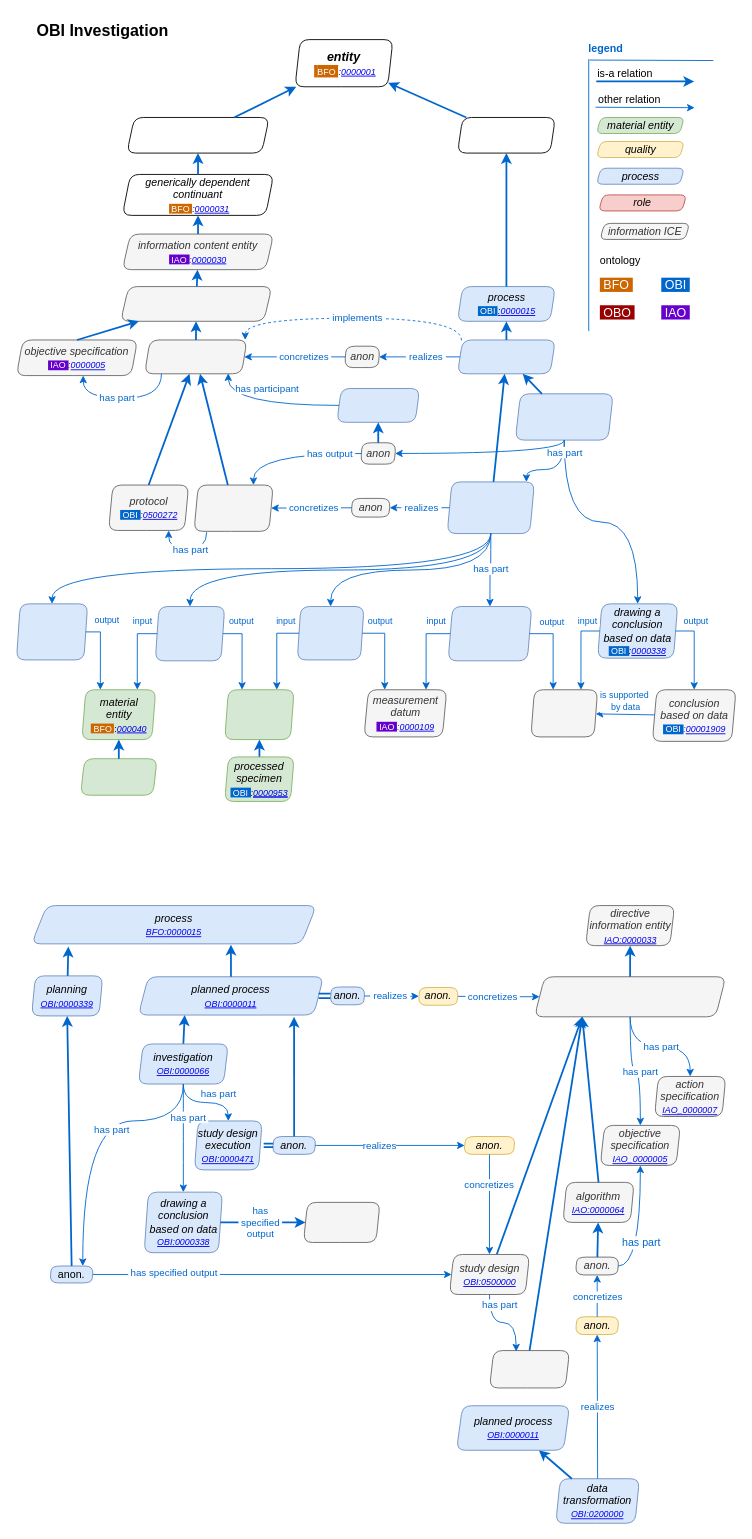
This 752x1539 diagram has some shape labels left out. The shapes that lost their labels are listed below. From the top down, each one's box as (x1, y1, x2, y2) in pixels, then its label:
(126, 117, 269, 153): continuant BFO : 0000002
(457, 117, 555, 153): occurent BFO : 0000003
(120, 286, 272, 321): directive information entity IAO : 0000033
(144, 339, 247, 374): plan specification IAO : 0000104
(457, 339, 555, 374): planned process OBI : 0000066
(336, 388, 420, 422): planning OBI : 0000339
(514, 393, 613, 440): investigation OBI : 0000066
(193, 484, 273, 531): study design OBI : 0500000
(446, 481, 534, 534): study design execution OBI : 0000471
(16, 603, 88, 660): specimen collection process OBI : 0000659
(154, 606, 225, 661): material processing OBI : 0000094
(296, 606, 364, 660): assay OBI : 0000070
(447, 606, 532, 661): data transformation OBI : 0200000
(224, 689, 294, 740): processed material OBI : 0000094
(530, 689, 598, 737): data item IAO : 00027
(80, 758, 157, 795): specimen OBI : 0100051
(534, 976, 726, 1017): plan specification IAO_0000104
(303, 1202, 380, 1242): conclusion based on data OBI:00001909
(489, 1350, 570, 1388): protocol OBI:0500272
